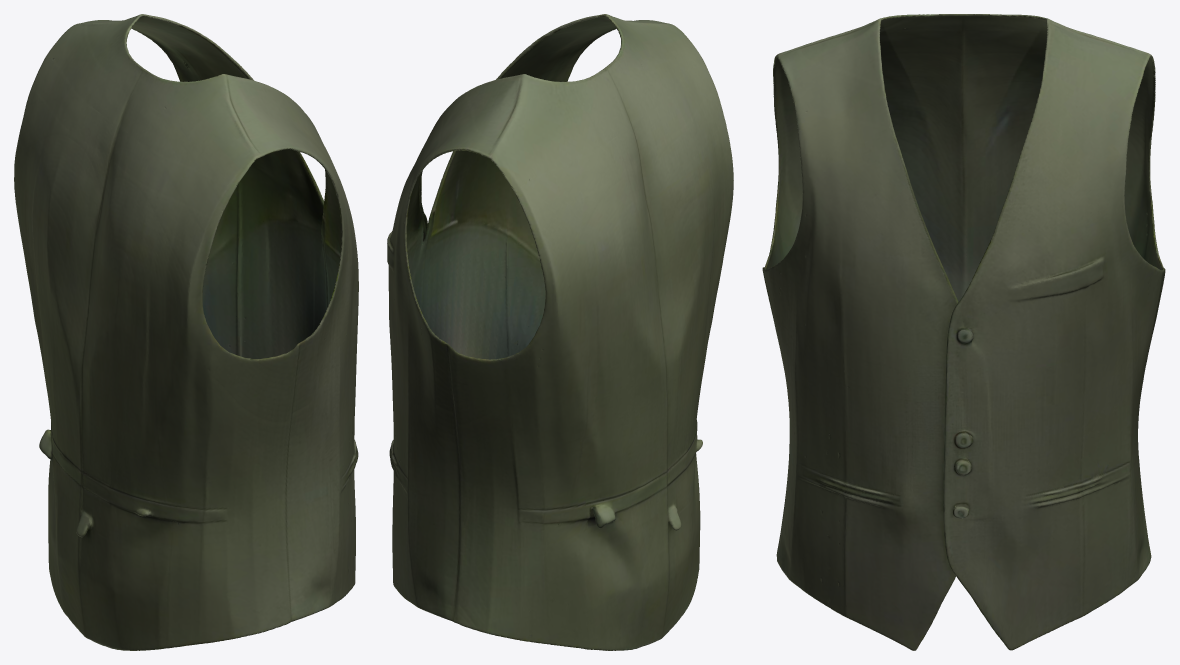
The model's file is 9f9fb634-7bf1-48ff-8701-50cda8809509_LoRPRMUgwt-6LigVH3ZGS_tripo_model_35a6b032-556e-4822-ab64-f566234053d1.glb.
3 renders of one model, left to right at view 1: azimuth 30°, elevation 25°; view 2: azimuth 150°, elevation 25°; view 3: azimuth 270°, elevation 25°, orthographic. The views are drawn at different scales.
Parts seen in each view (by area): view 1: tripo_node_35a6b032-556e-4822-ab64-f566234053d1; view 2: tripo_node_35a6b032-556e-4822-ab64-f566234053d1; view 3: tripo_node_35a6b032-556e-4822-ab64-f566234053d1.
Part boxes in pixels (left/top/right/bottom): tripo_node_35a6b032-556e-4822-ab64-f566234053d1: left=14, top=14, right=358, bottom=650; tripo_node_35a6b032-556e-4822-ab64-f566234053d1: left=387, top=14, right=733, bottom=650; tripo_node_35a6b032-556e-4822-ab64-f566234053d1: left=762, top=14, right=1165, bottom=650.
Size of the model in its own units: 0.4867 by 1 by 0.6237.
1 material, 1 textured.
